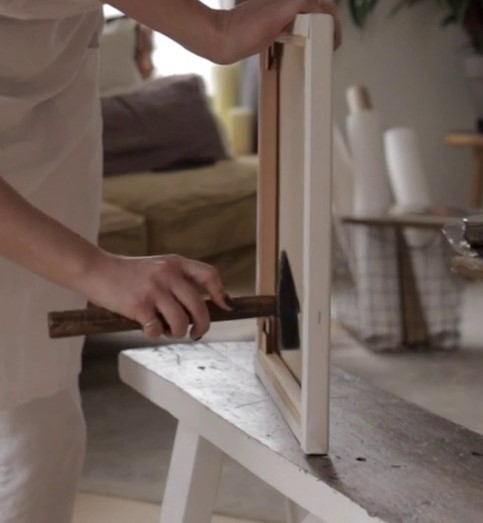hammer: (43, 250, 303, 354)
